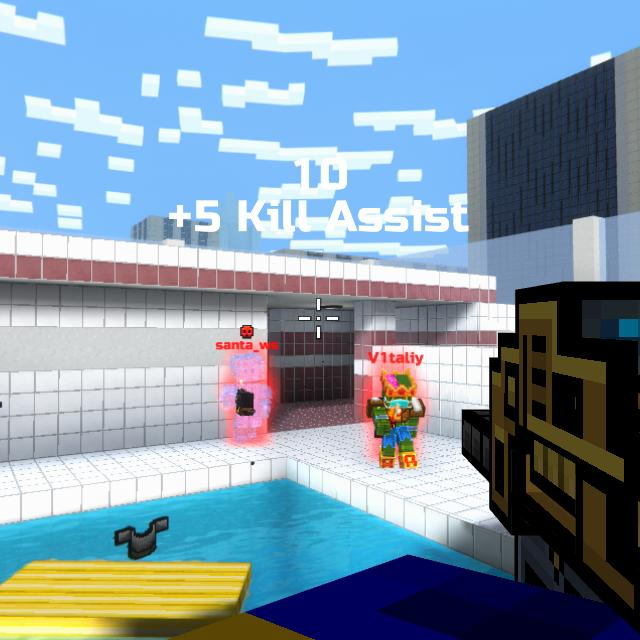Enemy: (364, 373, 423, 471), (219, 353, 270, 444)
